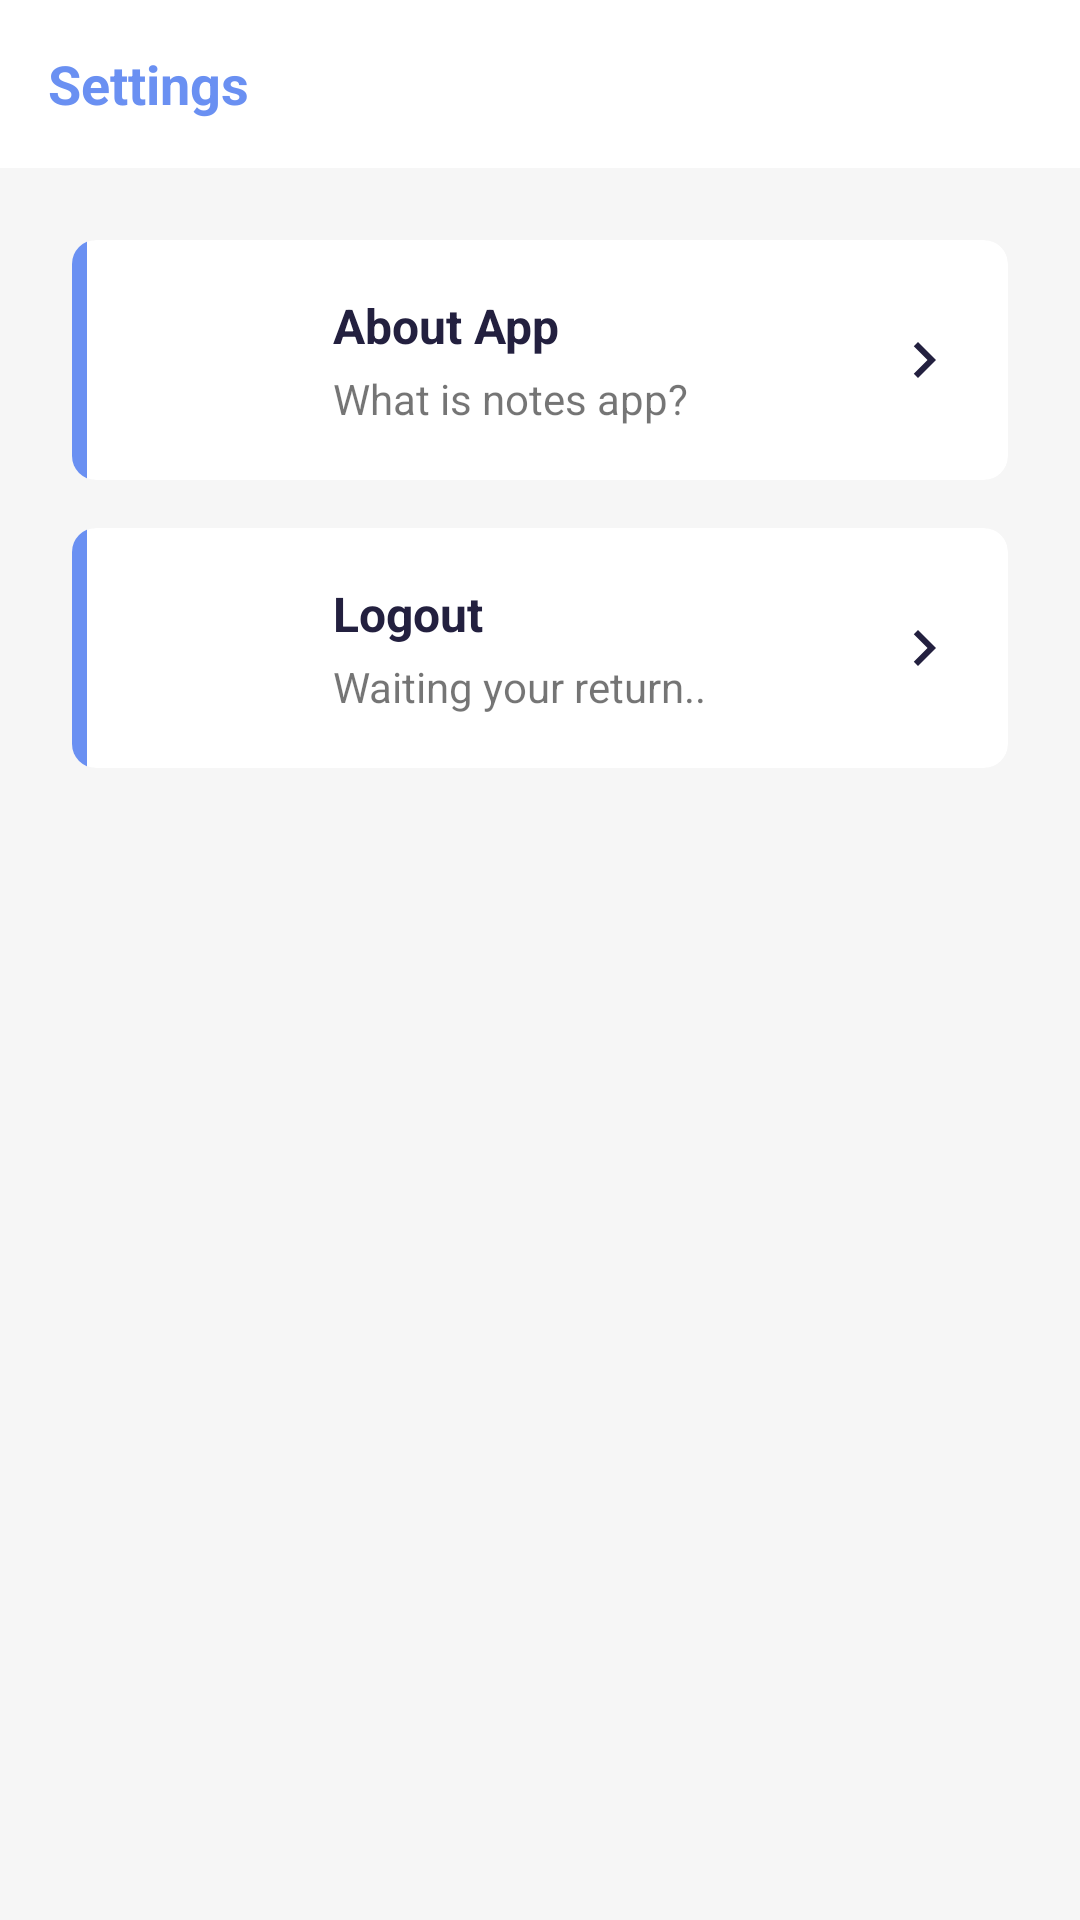

Icons on this 1080 × 1920 Android screen, each with the point to tap as (x=x, y=y):
chevron right: (x=925, y=360), (x=925, y=648)
